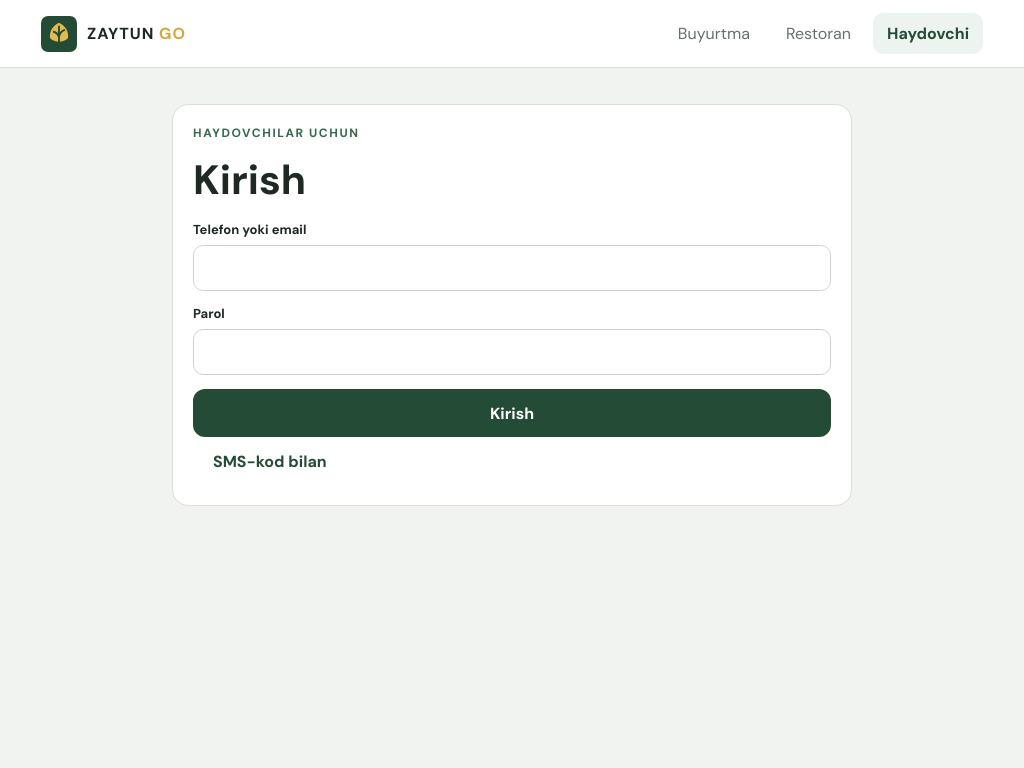
Test: driver phone-OTP login flow (UI, /driver) › C: routes a provisioned DRIVER phone to /driver after OTP verification, exactly like password-based driver sign-in
The image size is (1024, 768).
Click the button with test id "driver-otp-switch" at (270, 461), box [193,437,347,485]
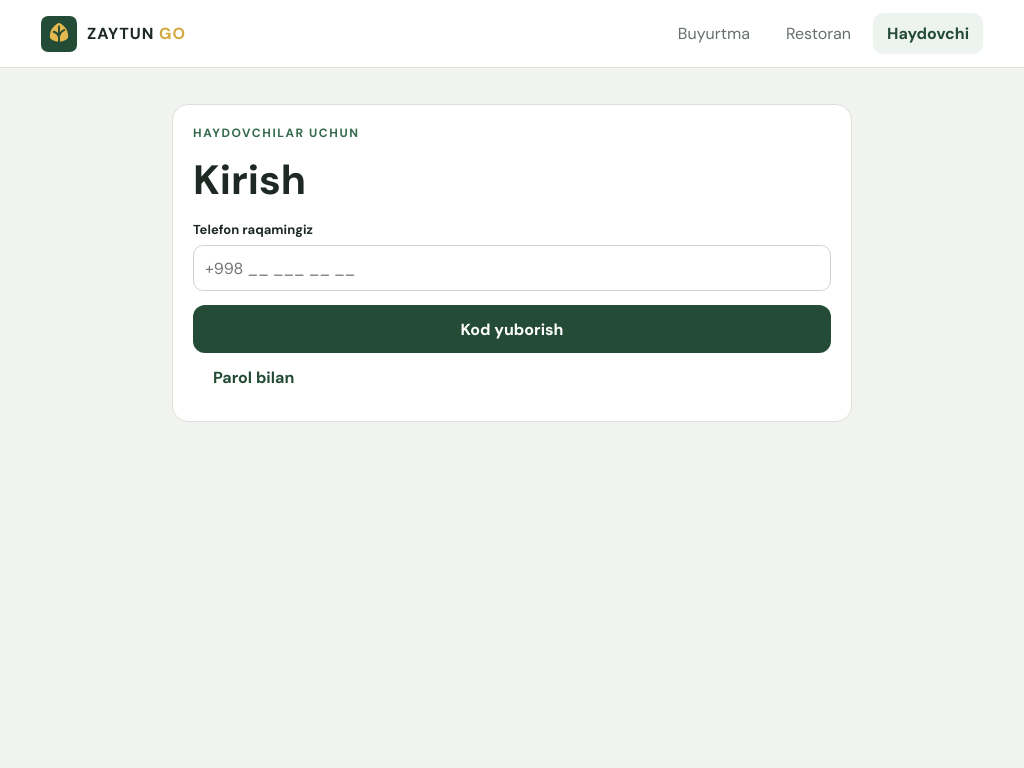
Type "901234567" into the field labelled "Telefon raqamingiz" at (512, 268), box [193,245,831,291]
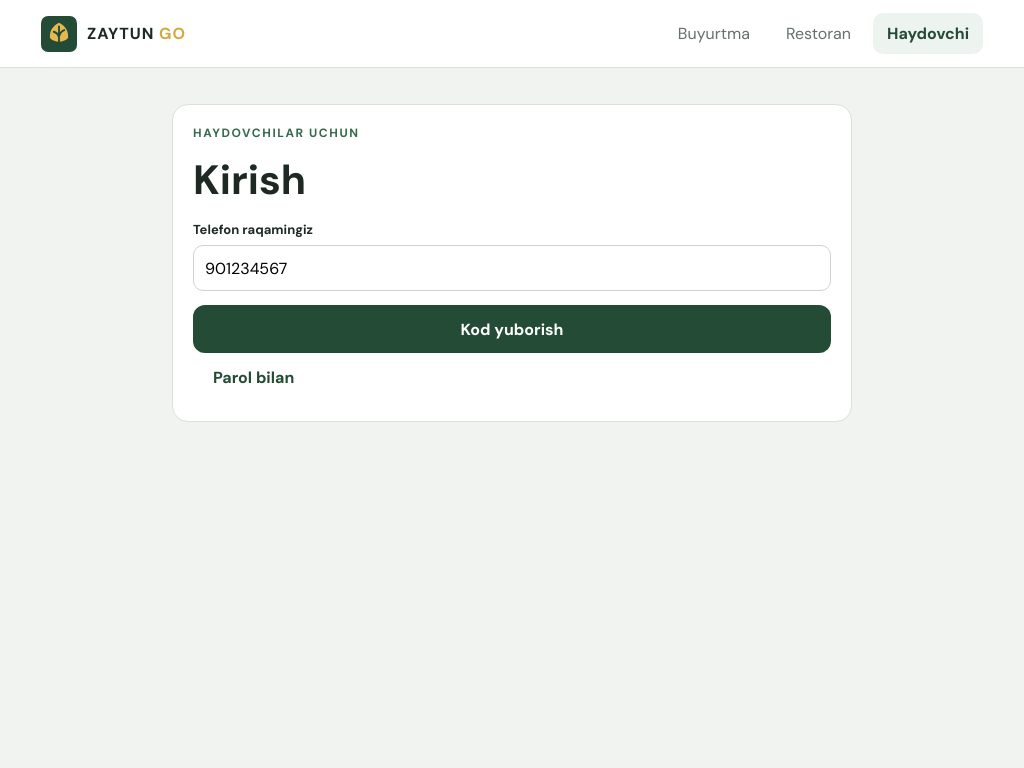
Click the button "Kod yuborish" at (512, 329), box [193,305,831,353]
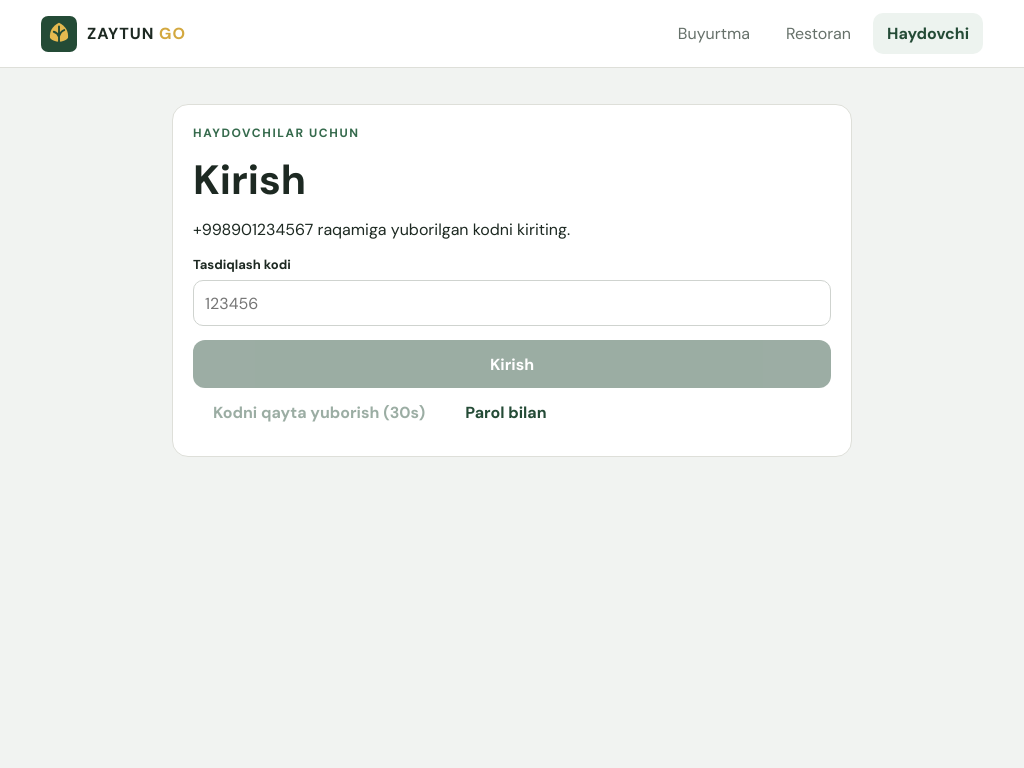
Type "222222" into the field labelled "Tasdiqlash kodi" at (512, 303), box [193,280,831,326]
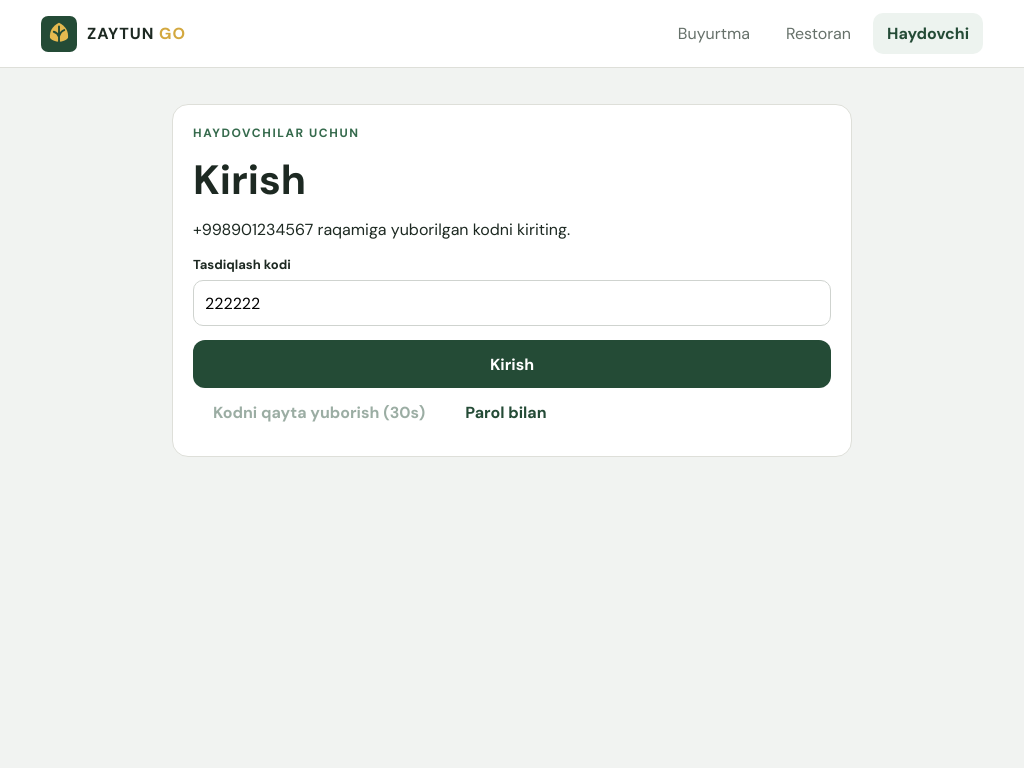
Click the button "Kirish" at (512, 364), box [193,340,831,388]
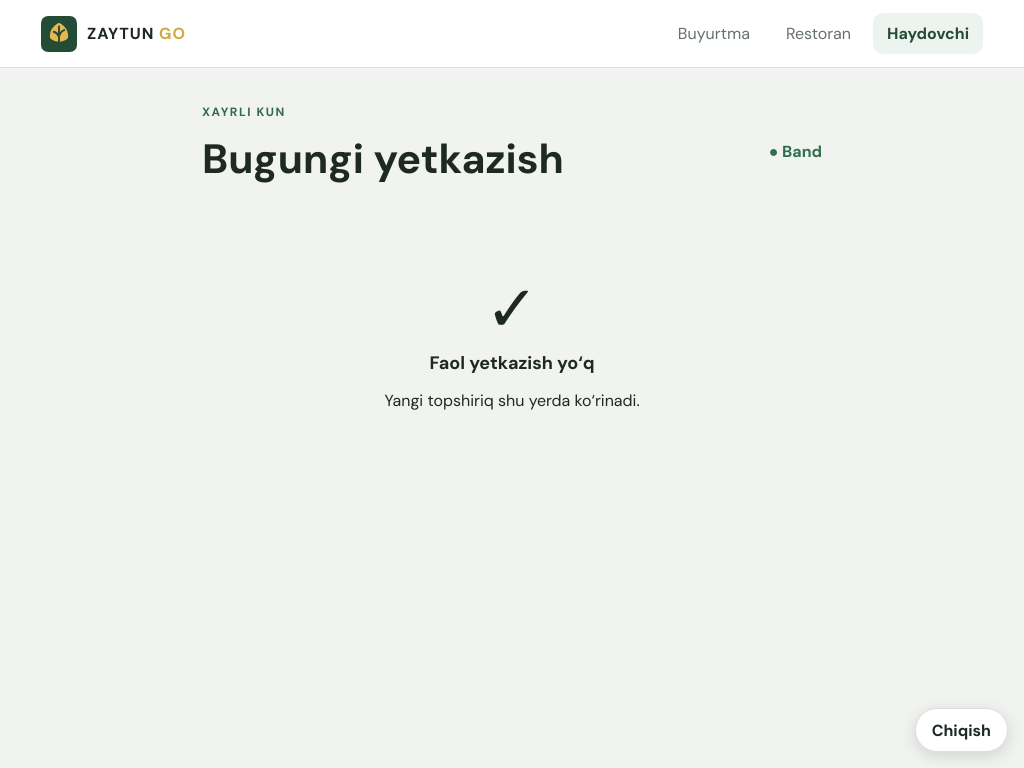
Expected: the heading "Bugungi yetkazish" is shown, [202,132,564,186]
